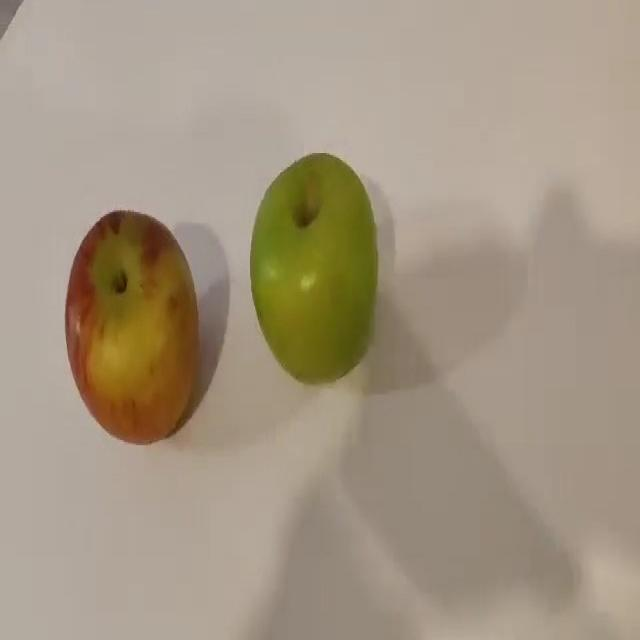Apple: (64, 208, 200, 444), (249, 151, 378, 385)
